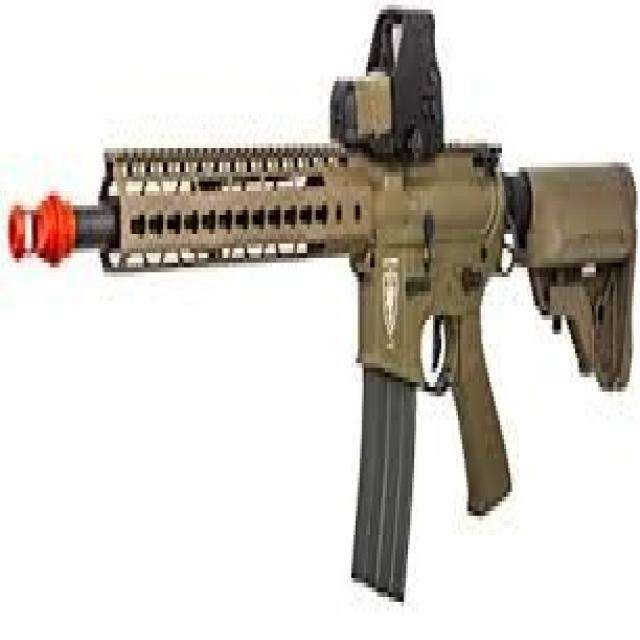rifle: (1, 1, 640, 615)
